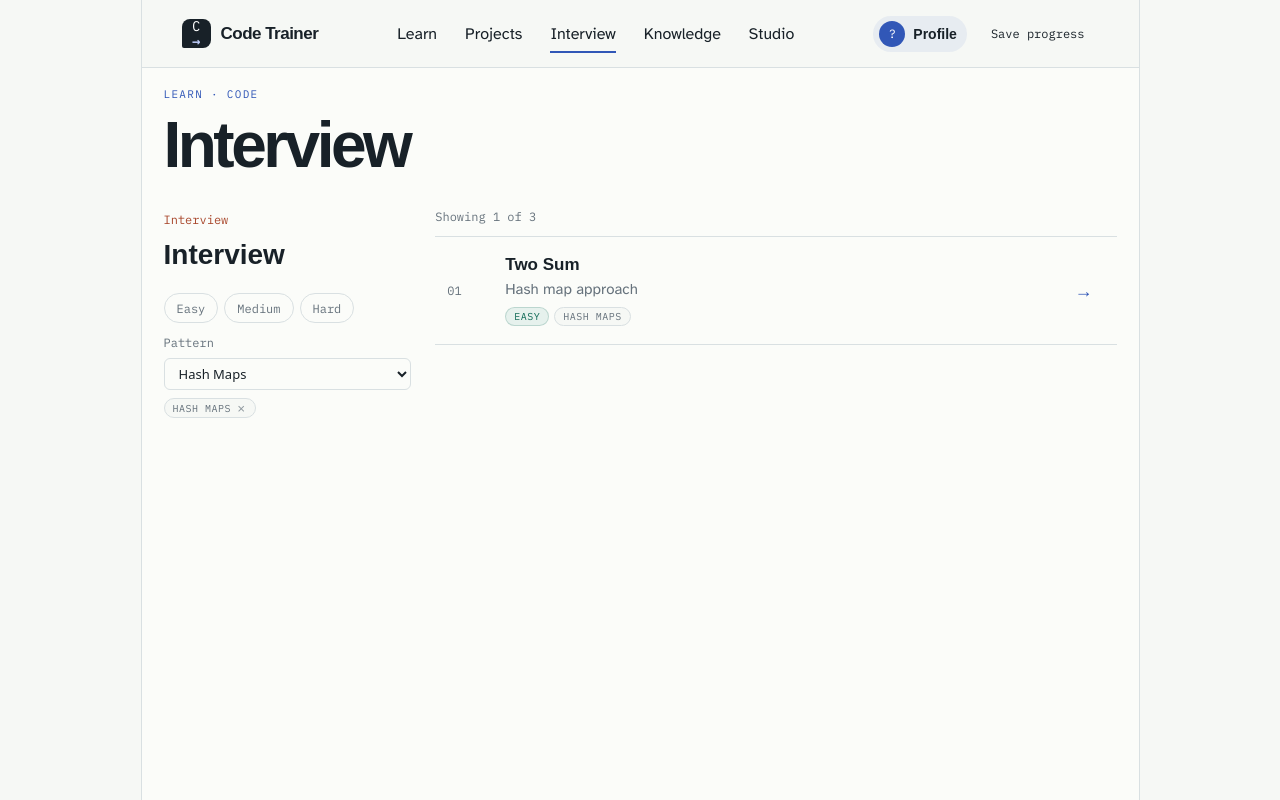
it: ModeCatalogPage filters › allows selecting pattern filter
Expected: the text "Two Sum" is shown, left=505, top=255, right=580, bottom=274
Expected: the text "3Sum" is not shown
Click the clear '×' button on active pattern chip
Click the button named "clear pattern filter": (241, 408) left=235, top=401, right=247, bottom=415
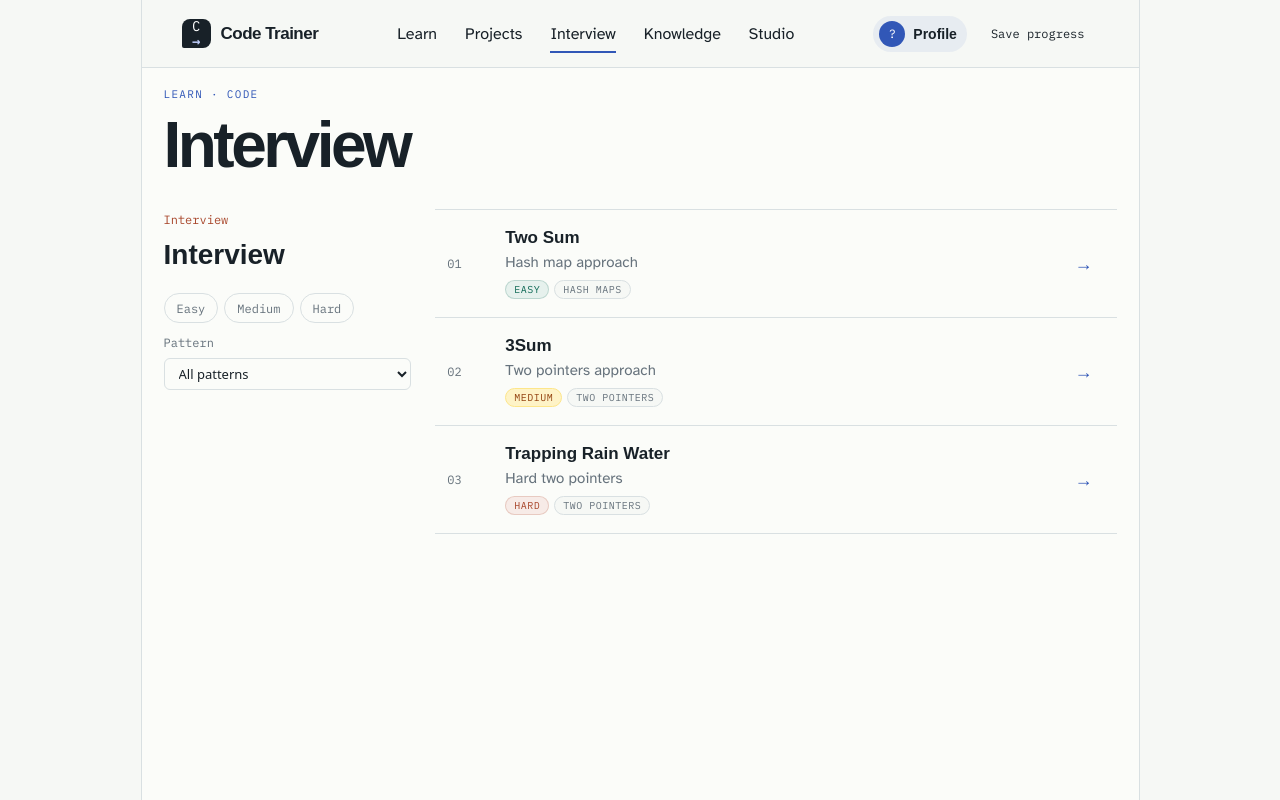
Expected: the text "3Sum" is shown, left=505, top=336, right=552, bottom=355
